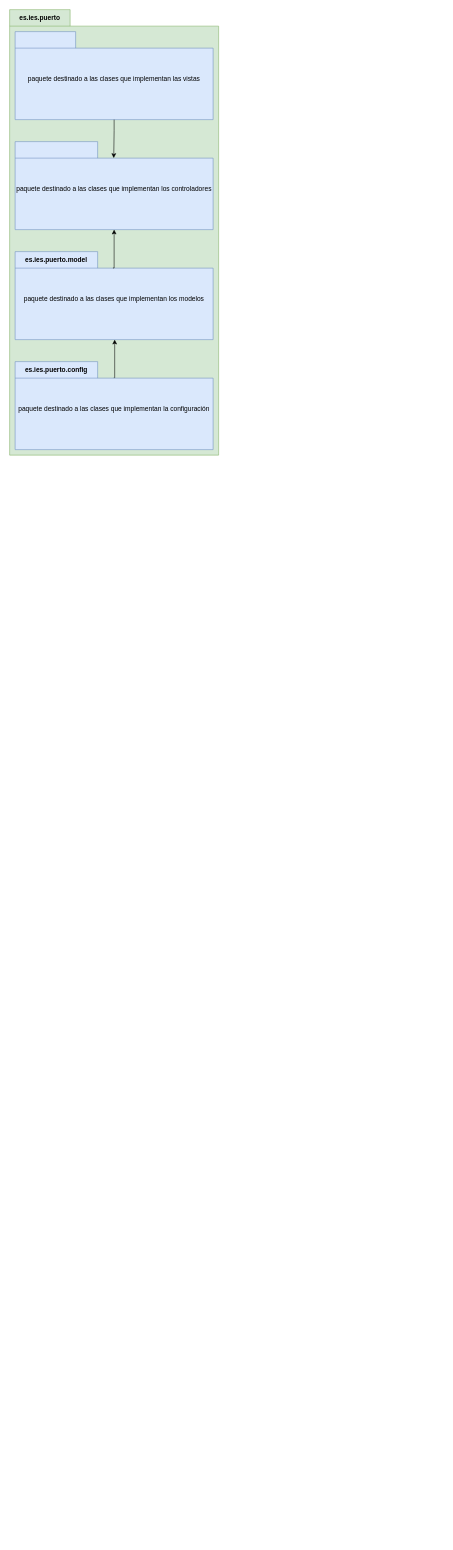
Some shapes in this 453 by 1550 pixel diagram are drawn without their labels. Here are the shapes that lost their labels. From the top down, the centre of each, then its label:
(114,75): es.ies.puerto.view
(114,185): es.ies.puerto.controlador
